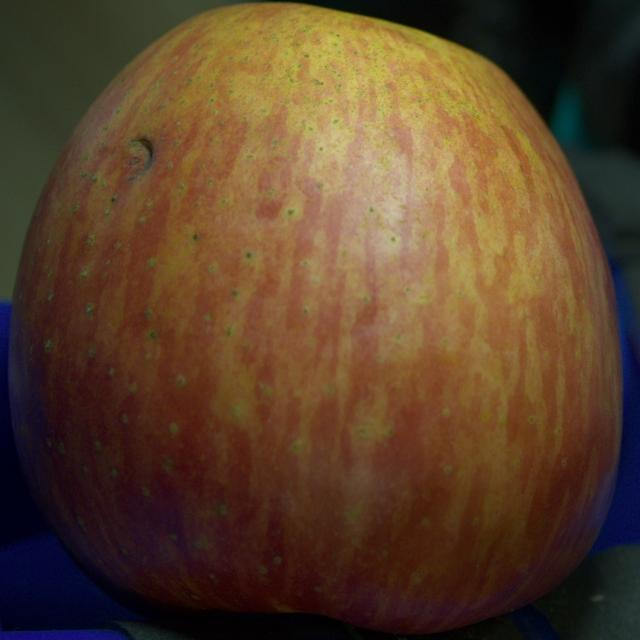apple: (8, 4, 622, 634)
scratch: (127, 138, 153, 181)
